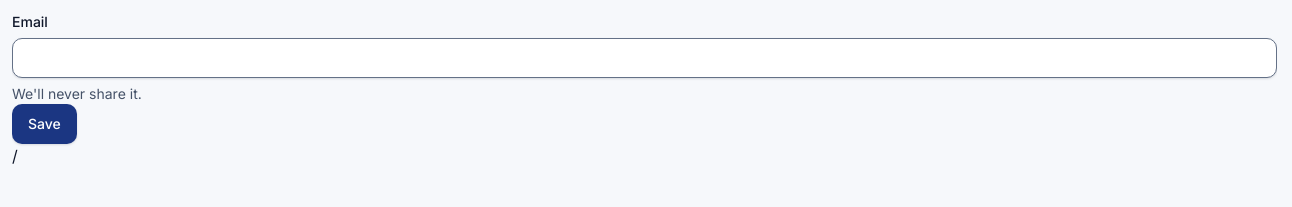
FormField with zod › shows the zod error, linked to the field and announced
This screenshot has width=1292, height=207.
In the field labelled "Email": (644, 58) left=12, top=38, right=1277, bottom=78, type "nope"
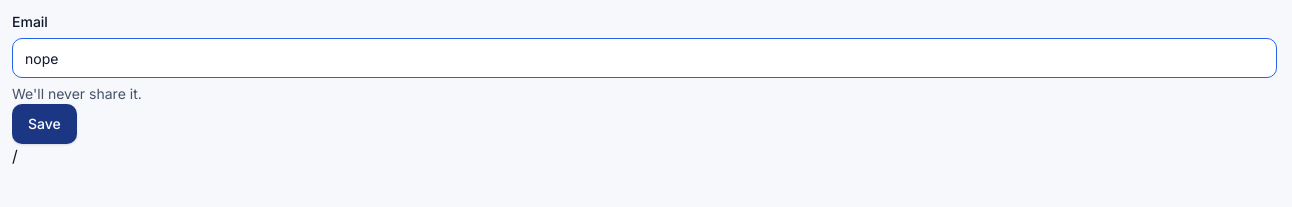
Click the button "Save": (44, 124) left=12, top=104, right=77, bottom=144
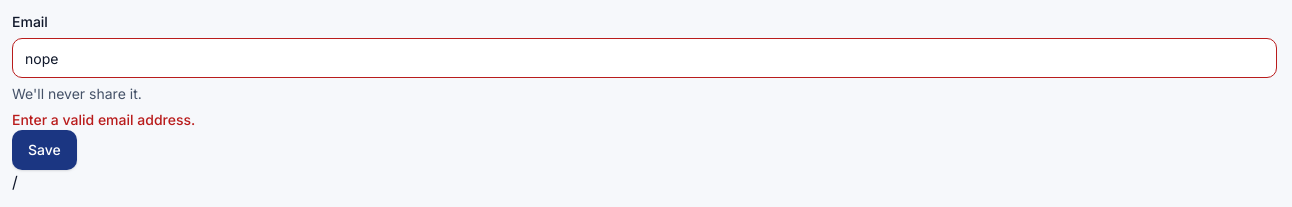
Expected: the message reads "Enter a valid email address.", left=12, top=111, right=195, bottom=128
